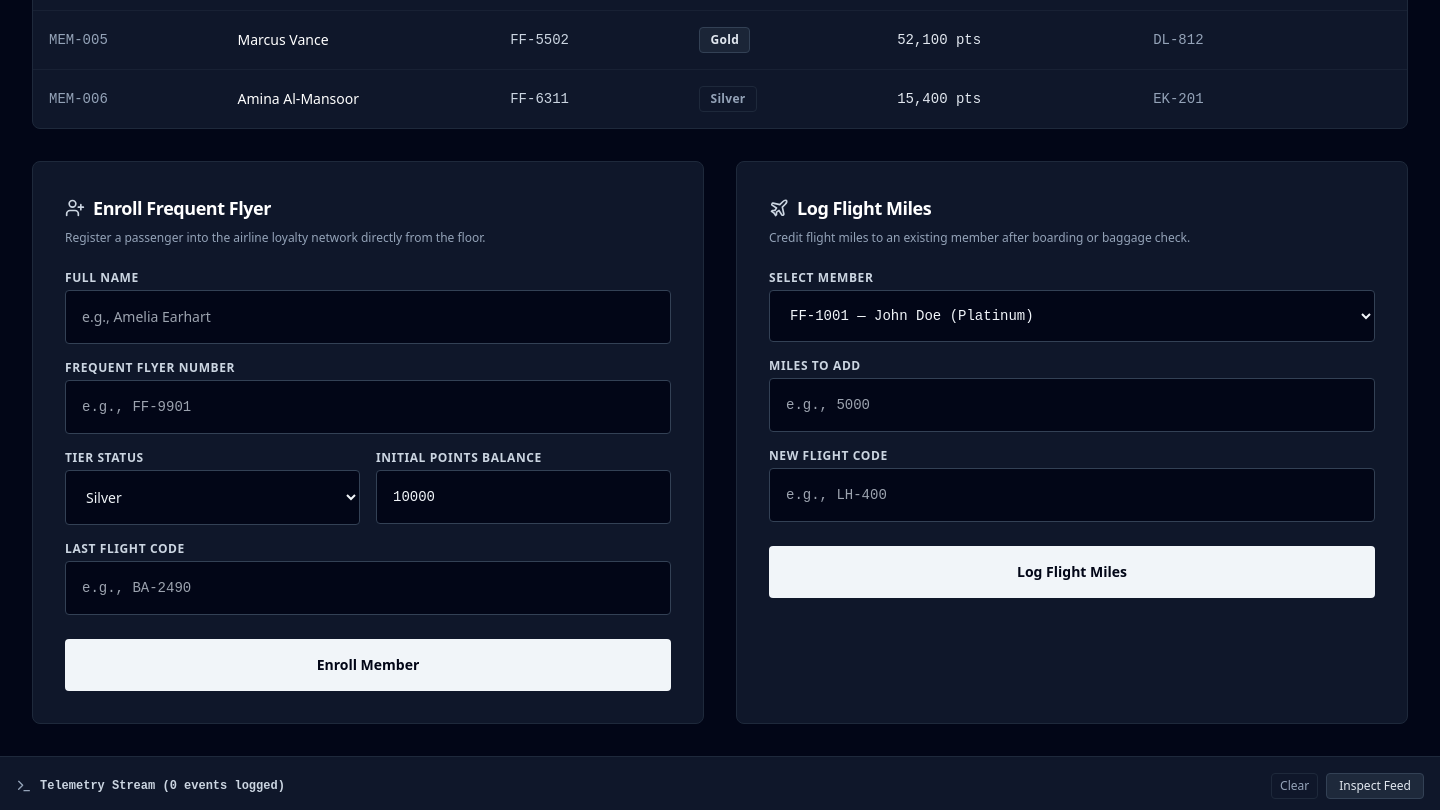
Test: Ticket ENG-163087: Frequent Flyer Portal - Strict TDD Test Suite › 2. Unhappy Path & Edge Cases › rejects negative miles and displays validation error
(page scrolled)
Type "-500" into the number field labelled "Miles to Add" at (1072, 405), box [769,378,1375,432]
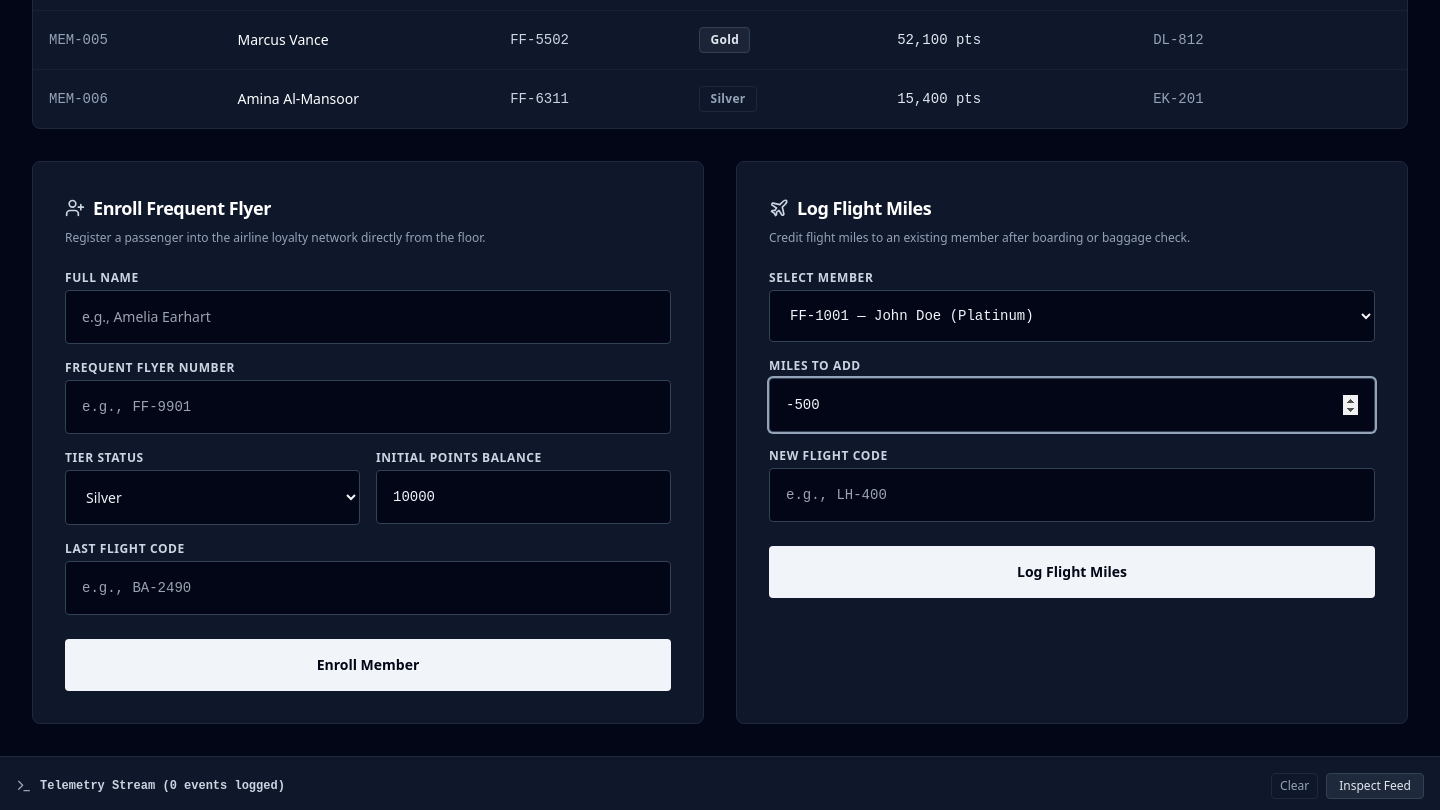
Click the button "Log Flight Miles" at (1072, 572), box [769,546,1375,598]
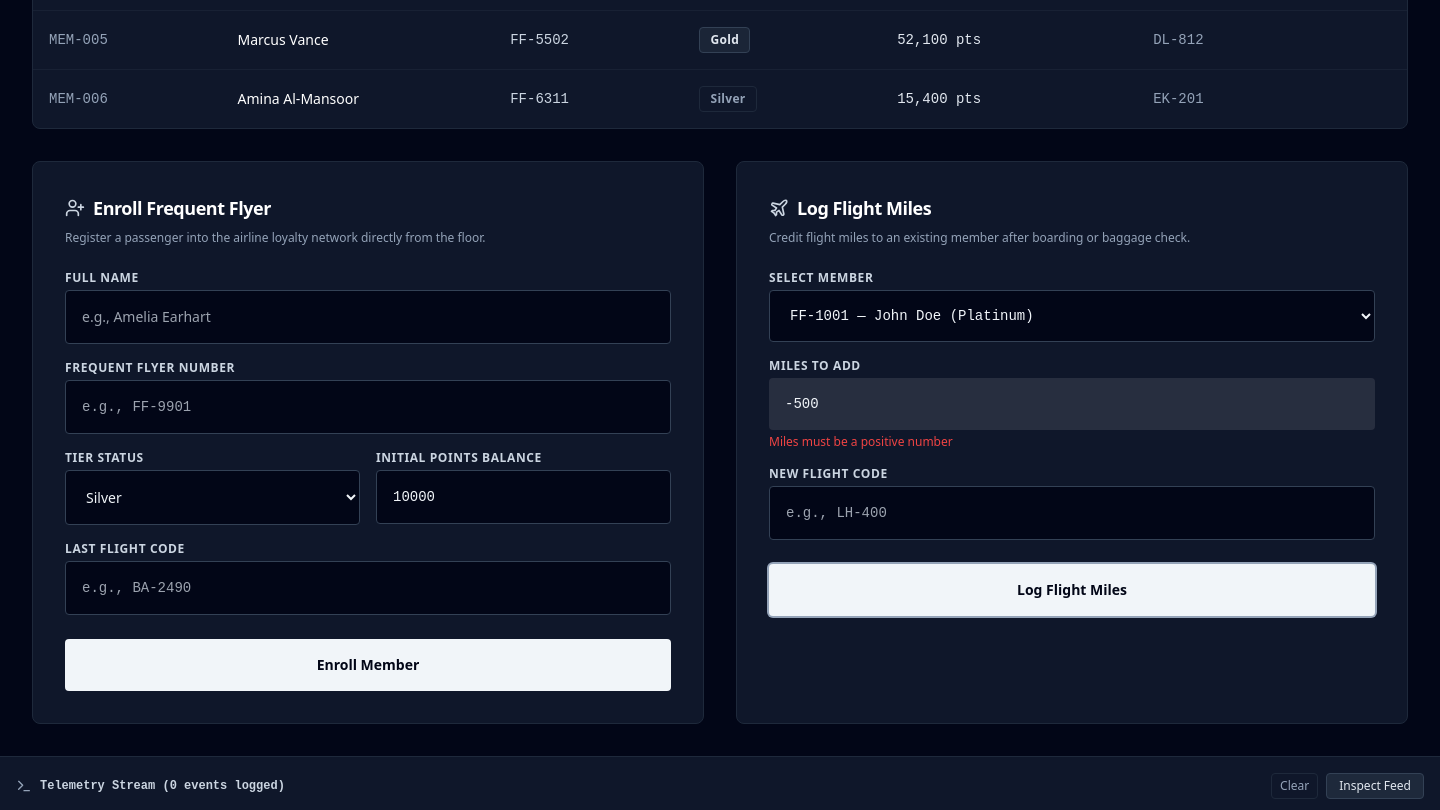
Check: the text "Miles must be a positive number" is shown, box [769,433,953,450]
